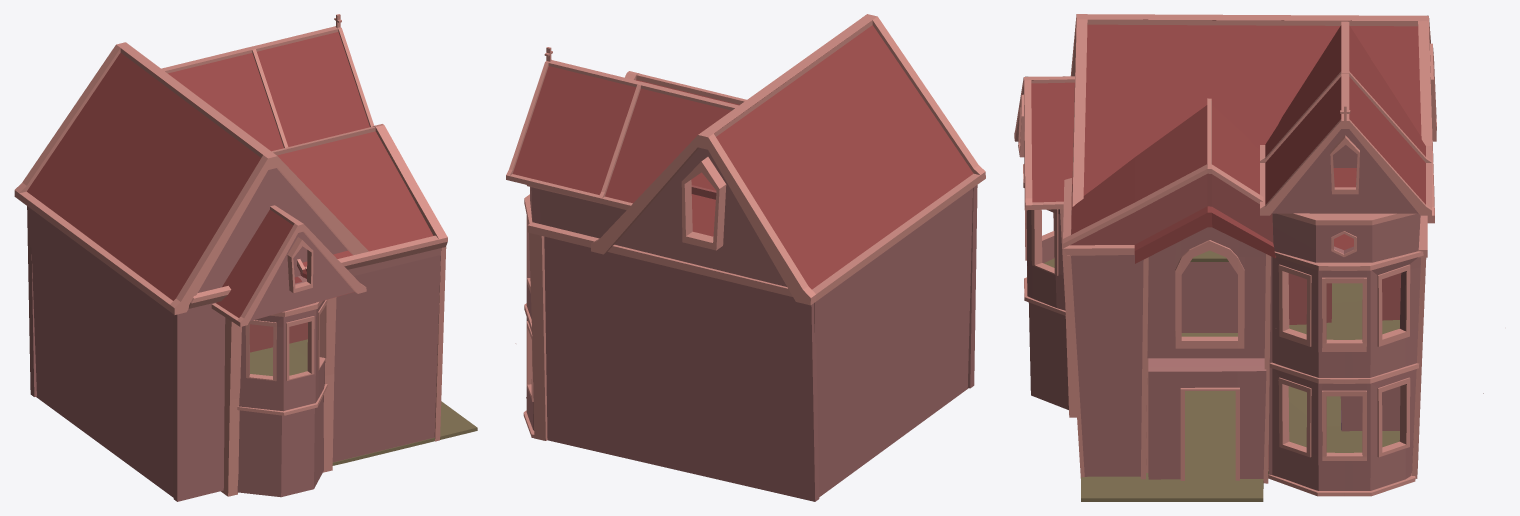
File: do_stairs_work.fbx
3 views of the same model, side by side, from view 1: azimuth 30°, elevation 25°; view 2: azimuth 150°, elevation 25°; view 3: azimuth 270°, elevation 25° (orthographic). The views are drawn at different scales.
Visible parts, largest first — view 1: roof.002, back wall, front wall, roof.001, roof trim.001, roof, fix, roof wall.001, mid walls, collums, trim, L bay (+6 smaller); view 2: Cube, roof.002, back wall, roof.001, roof trim.001, roof wall.001, collums, roof trim, wall, window cross.001, fix, window frame (+2 smaller); view 3: roof.002, mid walls, bay window, front wall, floor, roof.001, roof, window frame, roof trim.001, collums, roof wall, roof.003 (+13 smaller).
Boxes of the visible parts, bbox=[...] form: roof.002: bbox=[27, 52, 354, 317]; back wall: bbox=[29, 207, 173, 497]; front wall: bbox=[332, 248, 440, 462]; roof.001: bbox=[168, 32, 369, 151]; roof trim.001: bbox=[14, 42, 368, 326]; roof: bbox=[277, 131, 433, 283]; fix: bbox=[173, 275, 306, 501]; roof wall.001: bbox=[198, 168, 354, 320]; mid walls: bbox=[237, 396, 323, 497]; collums: bbox=[221, 247, 446, 496]; trim: bbox=[188, 124, 447, 308]; L bay: bbox=[239, 300, 325, 411]; Cube: bbox=[544, 236, 819, 501]; roof.002: bbox=[716, 25, 973, 289]; back wall: bbox=[814, 188, 972, 496]; roof.001: bbox=[512, 66, 736, 203]; roof trim.001: bbox=[591, 14, 985, 305]; roof wall.001: bbox=[615, 148, 786, 286]; collums: bbox=[527, 222, 792, 440]; roof trim: bbox=[506, 59, 738, 209]; wall: bbox=[530, 187, 626, 238]; window cross.001: bbox=[681, 157, 726, 250]; fix: bbox=[967, 185, 977, 388]; window frame: bbox=[523, 194, 534, 437]; roof.002: bbox=[1031, 19, 1421, 202]; mid walls: bbox=[1028, 227, 1266, 479]; bay window: bbox=[1269, 256, 1483, 490]; front wall: bbox=[1071, 255, 1143, 476]; floor: bbox=[1044, 250, 1399, 501]; roof.001: bbox=[1265, 25, 1425, 204]; roof: bbox=[1071, 105, 1275, 263]; window frame: bbox=[1268, 251, 1423, 496]; roof trim.001: bbox=[1014, 14, 1434, 223]; collums: bbox=[1060, 209, 1427, 483]; roof wall: bbox=[1272, 129, 1418, 213]; roof.003: bbox=[1070, 173, 1273, 245].
Size of the model in its own units: 852 by 893 by 1033.
